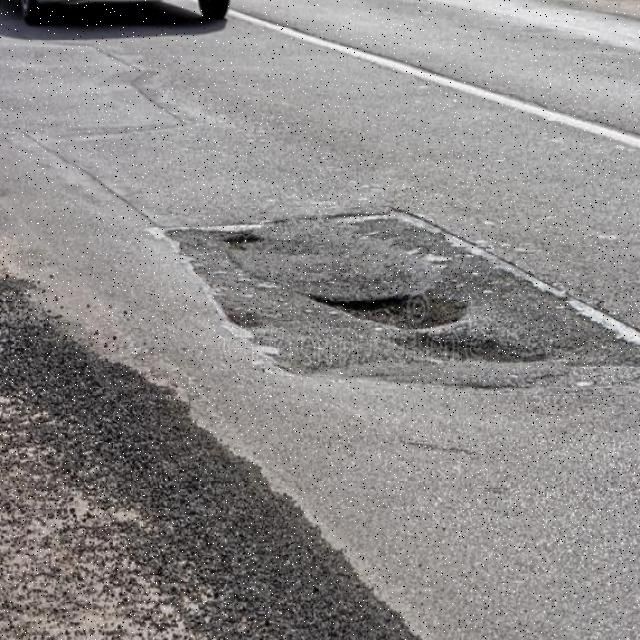pothole: (306, 294, 468, 352), (475, 341, 505, 359)
